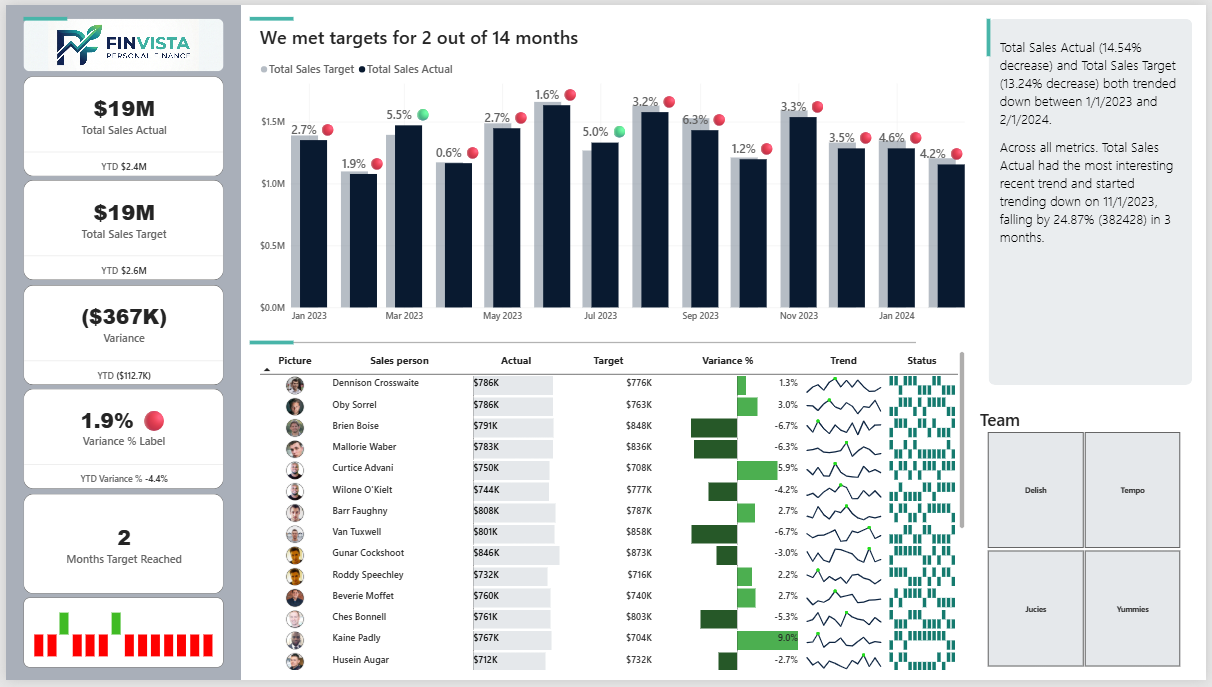

This screenshot's page, from the dashboard's own definition file:
{"tool":"powerbi","page":{"name":"Report","canvas":[1920,1080],"ordinal":0},"visuals":[{"type":"shape","box":[1572,22,326,586],"z":0},{"type":"shape","box":[0,0,376,1080],"z":1000},{"type":"cardVisual","fields":{"Data":["Actual.Total Sales Actual"]},"box":[28.2,114.5,320,160],"z":2000},{"type":"cardVisual","fields":{"Data":["Targets.Total Sales Target"]},"box":[28.2,280.9,320,160],"z":3000},{"type":"cardVisual","fields":{"Data":["Actual.Variance"]},"box":[28.2,447.3,320,160],"z":4000},{"type":"cardVisual","fields":{"Data":["Actual.Months Target Reached"]},"box":[28.2,781.8,320,160],"z":5000},{"type":"cardVisual","fields":{"Data":["Actual.Variance % Label"]},"box":[28.2,613.6,320,160],"z":6000},{"type":"clusteredColumnChart","fields":{"Category":["Calendar.Date"],"Y":["Actual.Target Status"]},"box":[28,948,320,112],"z":7000},{"type":"clusteredColumnChart","fields":{"Category":["Calendar.Date"],"Y":["Targets.Total Sales Target","Actual.Total Sales Actual"]},"box":[390,16,1160,512],"z":8000},{"type":"tableEx","fields":{"Values":["dimPeople.Picture","dimPeople.Sales person","Actual.Total Sales Actual","Targets.Total Sales Target","Actual.Variance %","SparklineData(Actual.Total Sales Actual_[Calendar.Date])","SparklineData(Actual.Target Status_[Calendar.Date])"]},"box":[390,540,1160,540],"z":9000},{"type":"slicer","fields":{"Values":["dimPeople.Team"]},"box":[1550,644,348,416],"z":10000},{"type":"shape","box":[390,500,1066,80],"z":11000},{"type":"shape","box":[390,500,70,80],"z":12000},{"type":"shape","box":[390,0,70,44],"z":13000},{"type":"image","box":[28,22,320,84],"z":13500},{"type":"shape","box":[28,0,70,44],"z":14000},{"type":"shape","box":[1550,22,44,60],"z":15000},{"type":"textbox","box":[1590,52,292,536],"z":17000}]}

Visuals, with their boxes in screenshot pixels (x1, y1, x2, y2), scaled from the page's 1920x1080 canvas onto the 1212x687 screenshot:
shape: 992, 14, 1198, 387
shape: 0, 0, 237, 686
cardVisual - Actual.Total Sales Actual: 18, 73, 220, 175
cardVisual - Targets.Total Sales Target: 18, 179, 220, 280
cardVisual - Actual.Variance: 18, 285, 220, 386
cardVisual - Actual.Months Target Reached: 18, 497, 220, 599
cardVisual - Actual.Variance % Label: 18, 390, 220, 492
clusteredColumnChart - Calendar.Date x Actual.Target Status: 18, 603, 220, 674
clusteredColumnChart - Calendar.Date x Targets.Total Sales Target: 246, 10, 978, 336
tableEx - dimPeople.Picture x dimPeople.Sales person: 246, 344, 978, 686
slicer - dimPeople.Team: 978, 410, 1198, 674
shape: 246, 318, 919, 369
shape: 246, 318, 290, 369
shape: 246, 0, 290, 28
image: 18, 14, 220, 67
shape: 18, 0, 62, 28
shape: 978, 14, 1006, 52
textbox: 1004, 33, 1188, 374
